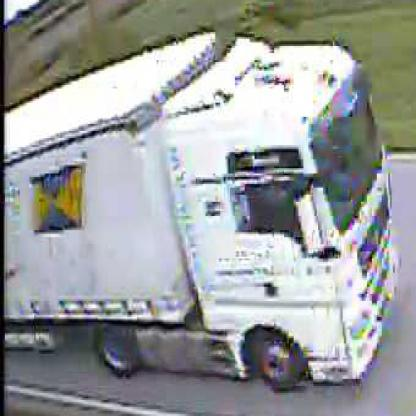container: (2, 40, 396, 397)
